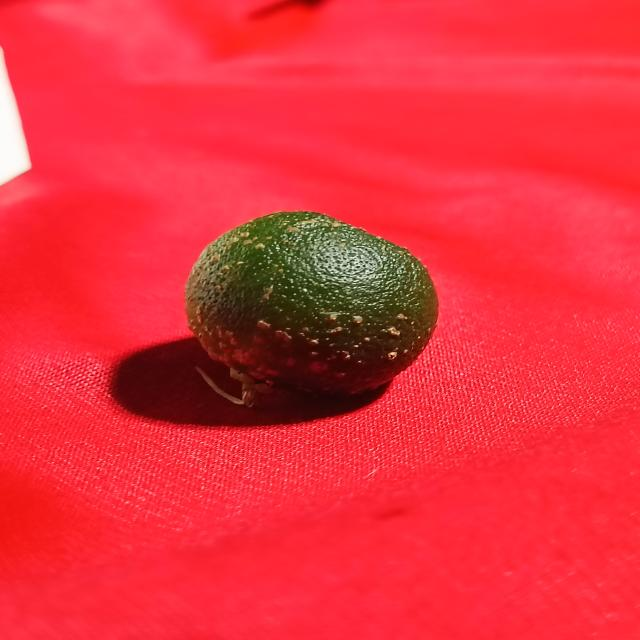scab: (187, 206, 447, 402)
